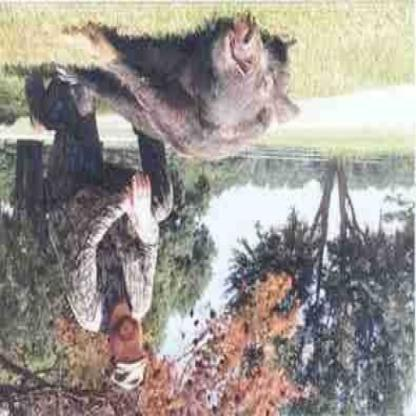boar: (104, 3, 324, 178)
